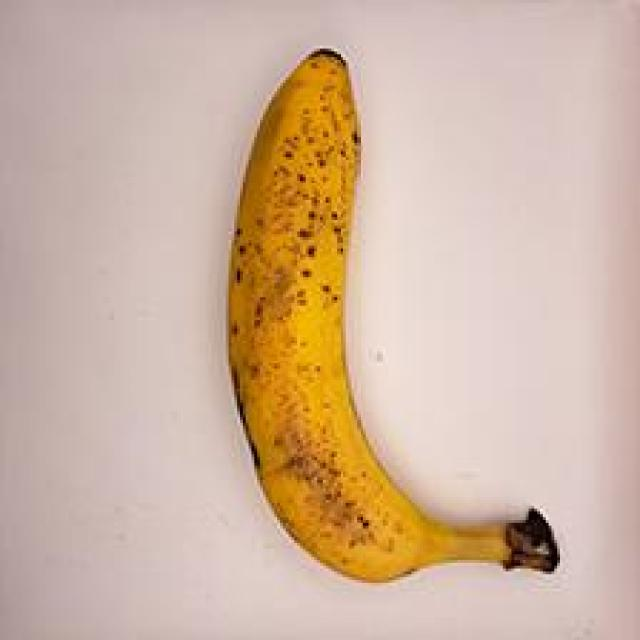Overripe: (188, 21, 586, 614)
